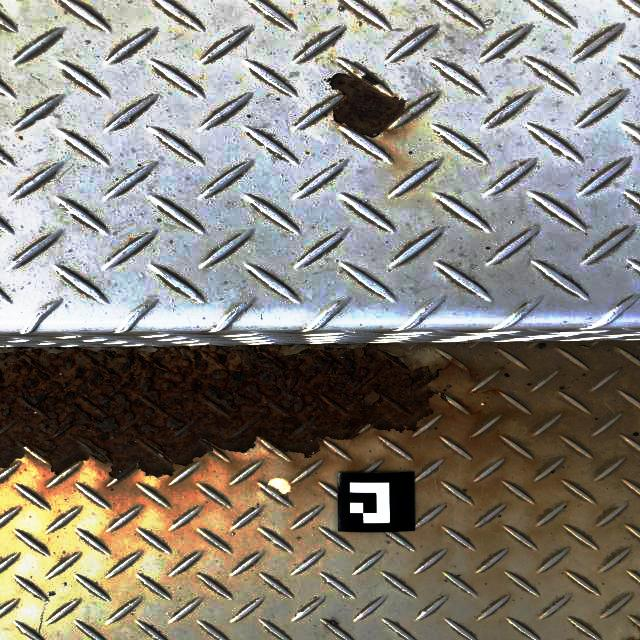Corrosion: (0, 345, 446, 479), (326, 59, 406, 139)
